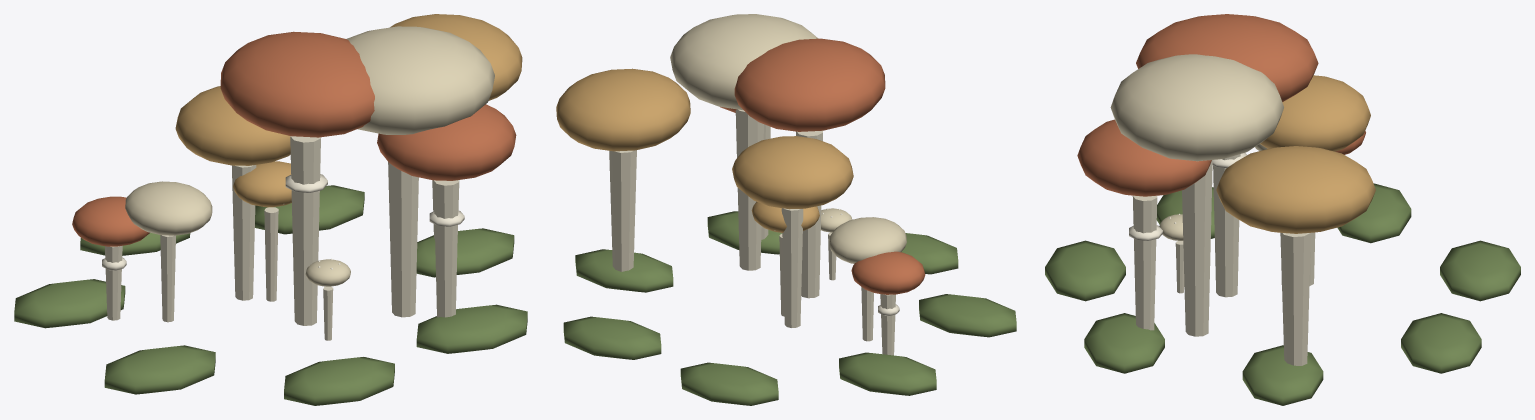
Rendered from mushroom_cluster_summer.glb.
The picture shows the model from 3 angles, left to right: view 1: azimuth 30°, elevation 25°; view 2: azimuth 150°, elevation 25°; view 3: azimuth 270°, elevation 25°; orthographic projection. The views are drawn at different scales.
Parts seen in each view (by area): view 1: mushroom_cluster_summer; view 2: mushroom_cluster_summer; view 3: mushroom_cluster_summer.
Part boxes in pixels (<box>): mushroom_cluster_summer: <box>14,14,527,405</box>; mushroom_cluster_summer: <box>556,14,1016,405</box>; mushroom_cluster_summer: <box>1045,14,1520,405</box>.
Bounding box in the file's own units: 1.57 × 0.9307 × 1.46.
